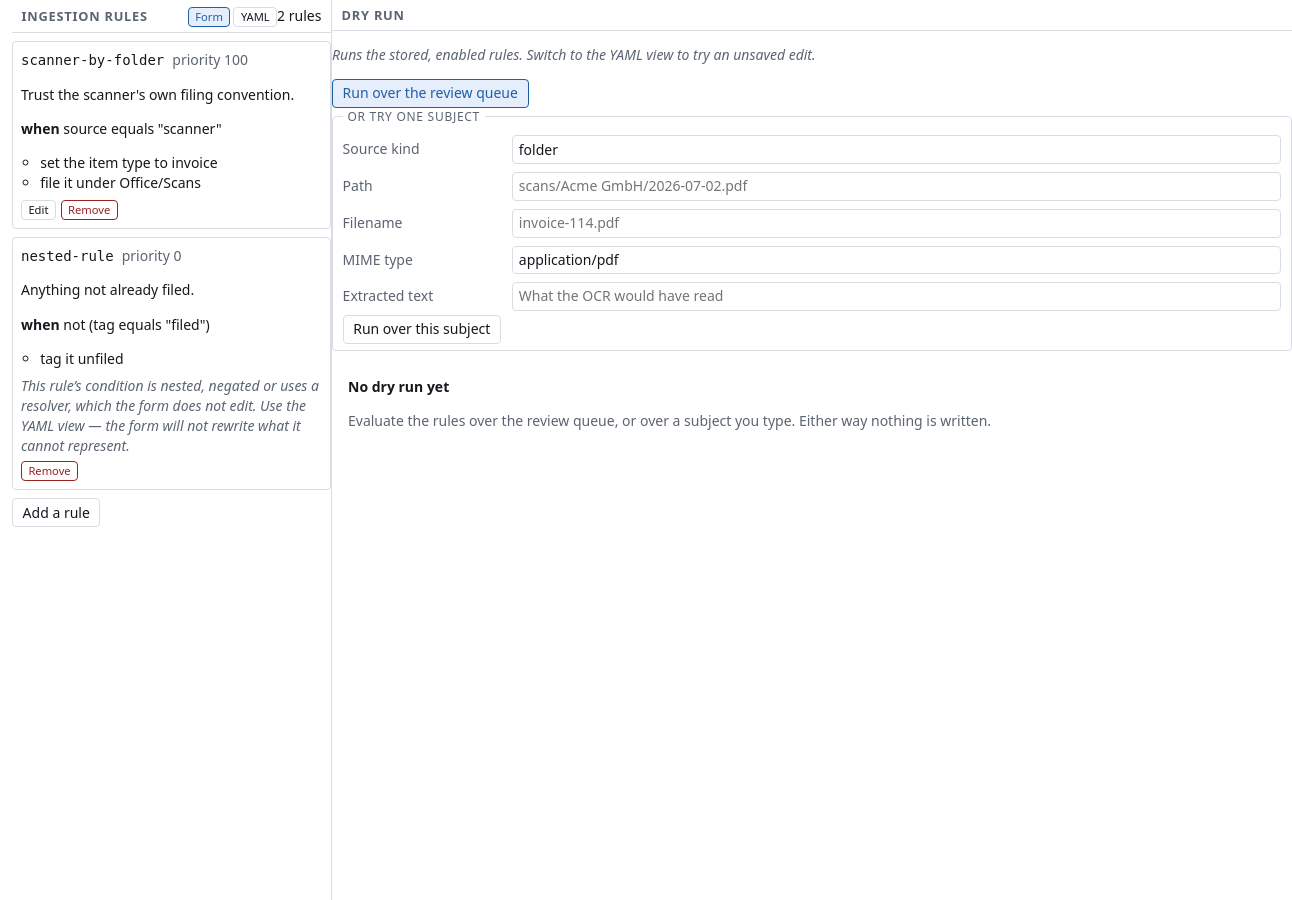
Test case: the rules editor › runs a dry run over the review queue, asking the documents themselves for the subjects
Check: the element with test id "rules-form" is shown, box [12,41,331,527]
Click the button "Run over the review queue".
click(430, 93)  # box [332,79,528,108]
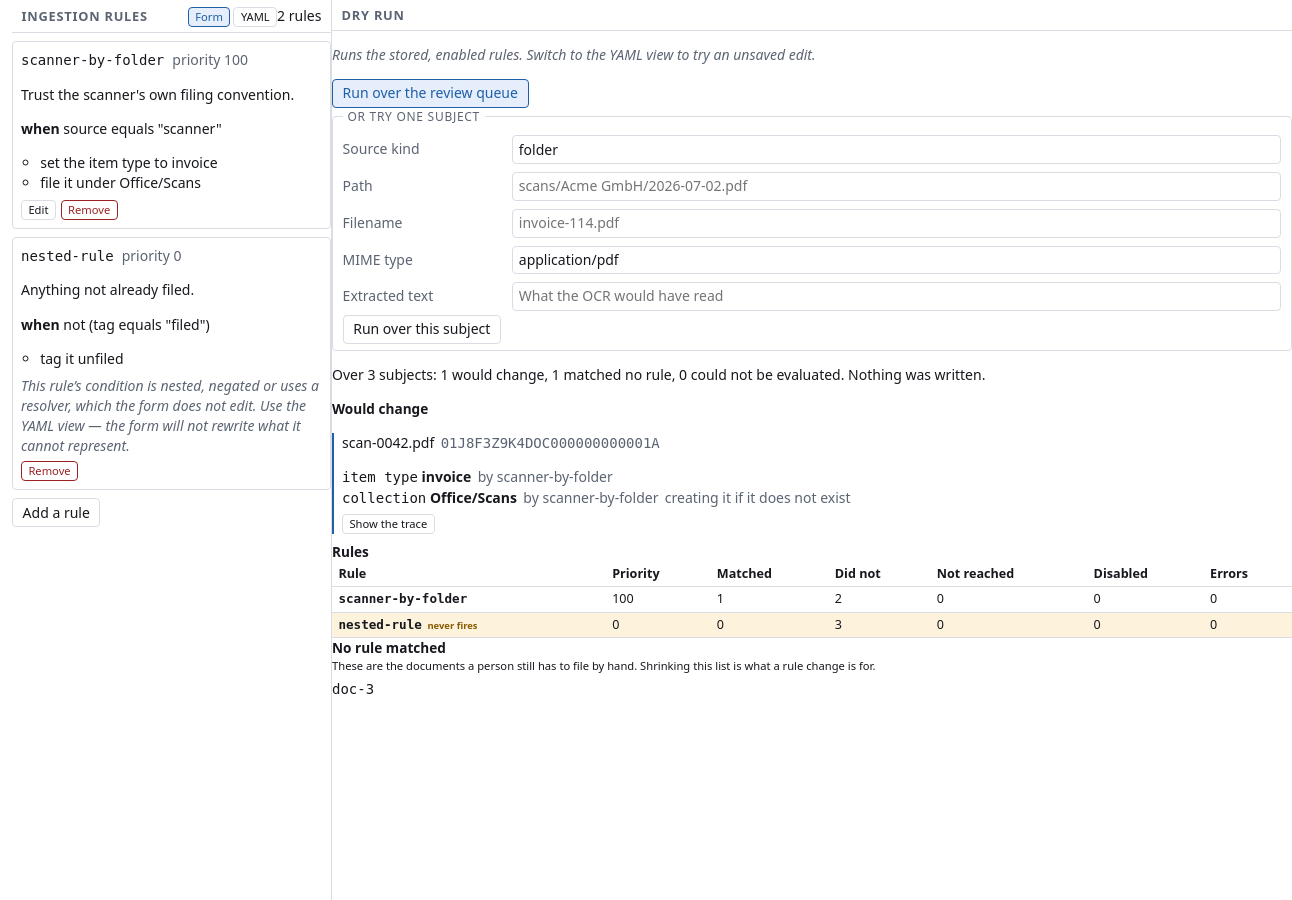
Check: the element with test id "dry-run-report" shows "1 would change", box [332,365,1291,699]
